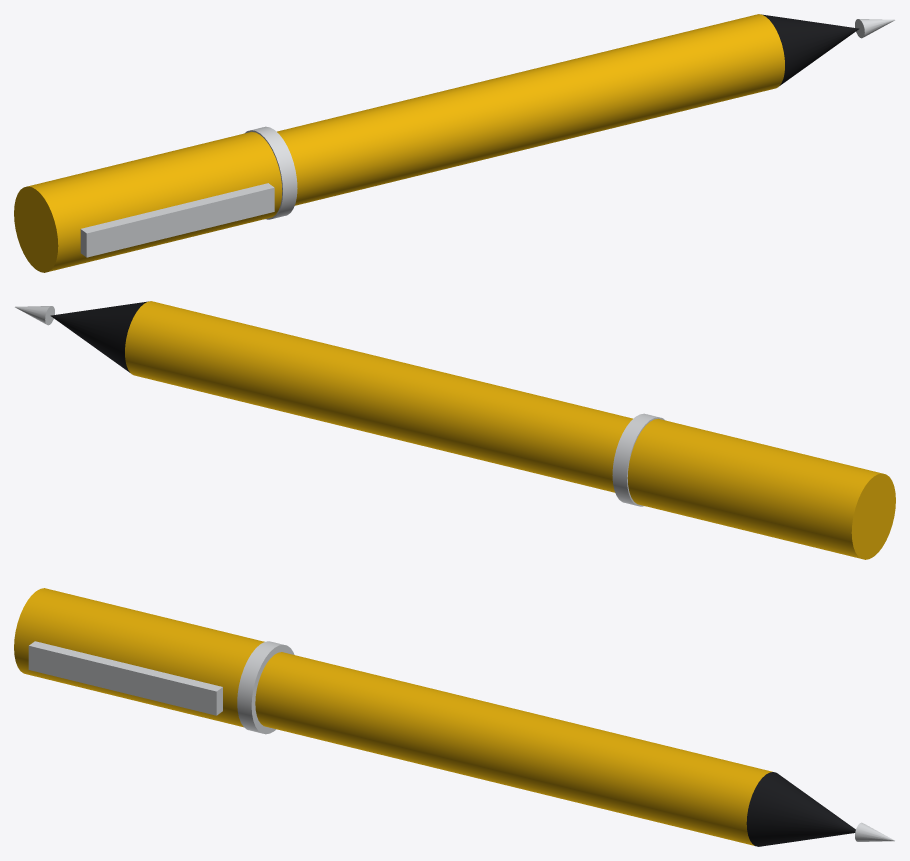
The model's file is highlighter.obj.
3 views of the same model, one above another, from view 1: azimuth 30°, elevation 25°; view 2: azimuth 150°, elevation 25°; view 3: azimuth 330°, elevation 25° (orthographic).
Parts seen in each view (by area): view 1: highlighter_0_0, highlighter_1_196, highlighter_2_392, highlighter_4_612, highlighter_3_416; view 2: highlighter_0_0, highlighter_1_196, highlighter_4_612, highlighter_3_416; view 3: highlighter_0_0, highlighter_1_196, highlighter_2_392, highlighter_4_612, highlighter_3_416.
Part boxes in pixels (x1,y1,x2,y2): highlighter_0_0: (277,14,784,205); highlighter_1_196: (14,131,282,272); highlighter_2_392: (80,183,274,257); highlighter_4_612: (761,14,859,85); highlighter_3_416: (244,126,297,219); highlighter_0_0: (125,301,632,492); highlighter_1_196: (627,418,895,559); highlighter_4_612: (50,301,148,372); highlighter_3_416: (612,413,665,506); highlighter_0_0: (255,652,772,845); highlighter_1_196: (14,588,264,727); highlighter_2_392: (28,641,222,715); highlighter_4_612: (746,772,855,846); highlighter_3_416: (237,641,294,734).
Bounding box in the file's own units: 0.119 × 0.011 × 0.0124.
